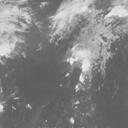cyclone: (70, 32, 110, 77)
